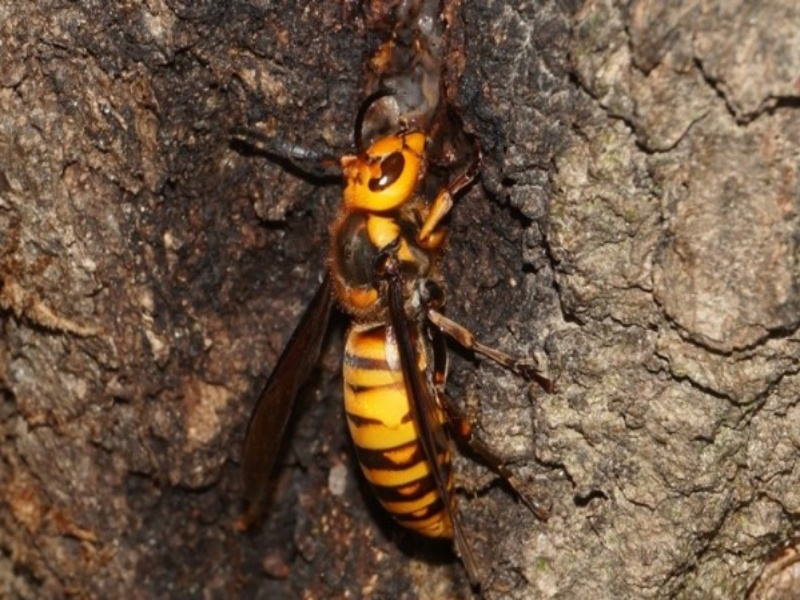asian_giant_hornet: (254, 98, 528, 549)
